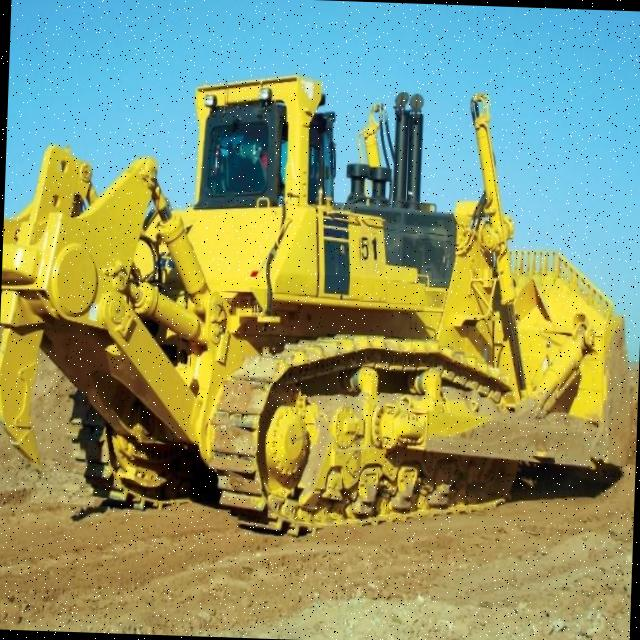Bulldozer: (0, 13, 640, 551)
